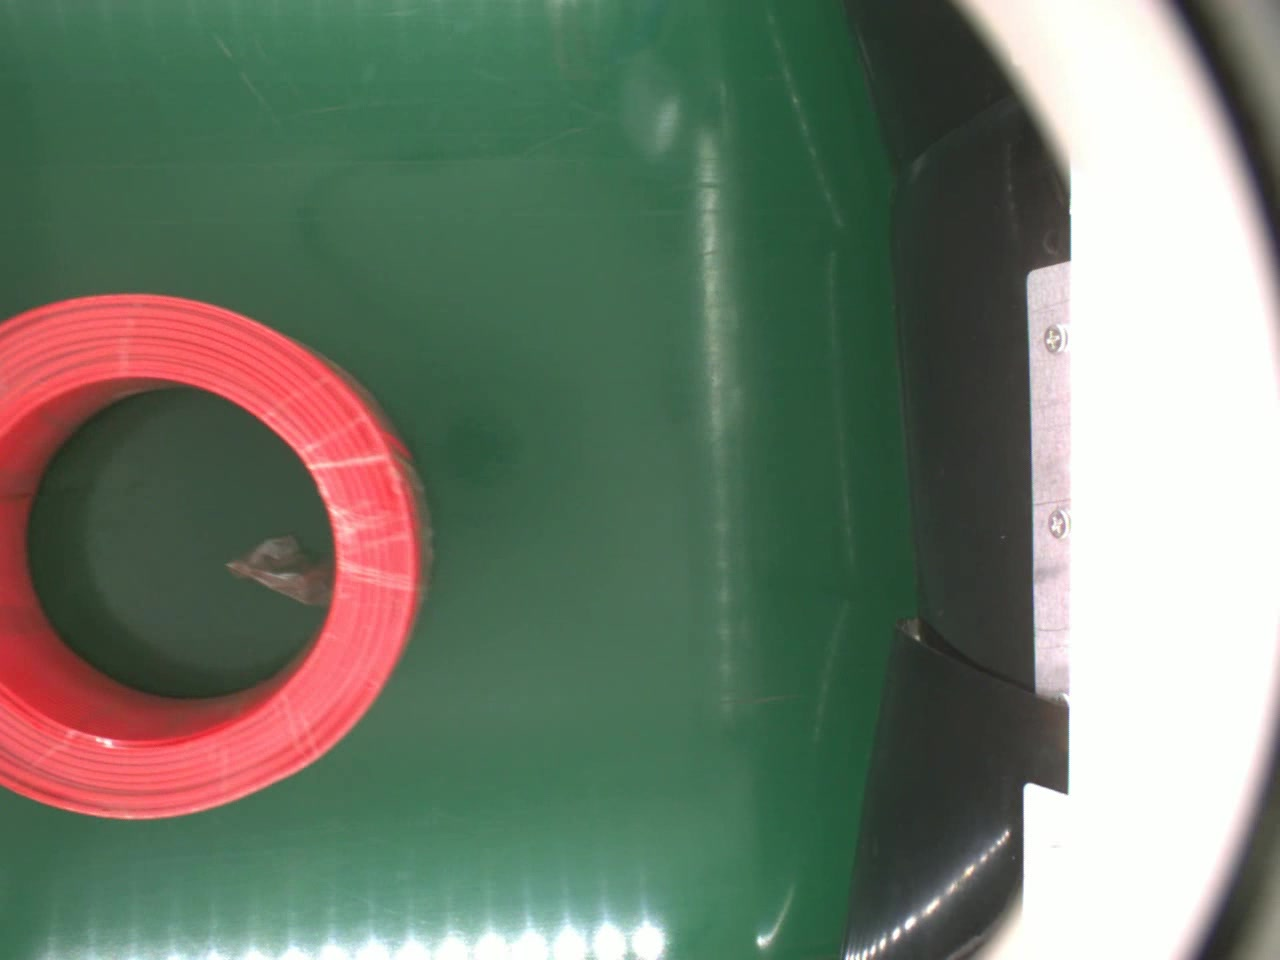red: (0, 289, 437, 824)
